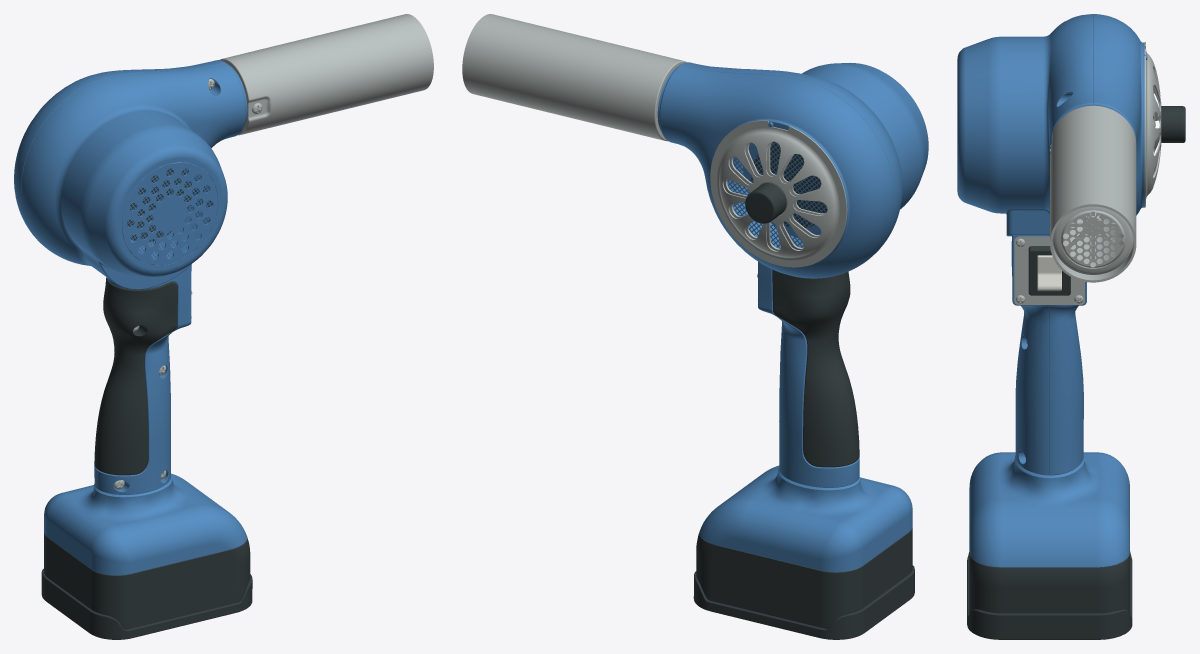
File: powerTool_heatGun_electric_a01.glb
3 renders of one model, left to right at view 1: azimuth 30°, elevation 25°; view 2: azimuth 150°, elevation 25°; view 3: azimuth 270°, elevation 25°, orthographic. The views are drawn at different scales.
Size of the model in its own units: 0.2026 by 0.2516 by 0.0924.
